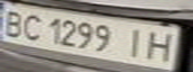1: (42, 15, 63, 46)
2: (57, 16, 78, 48)
9: (90, 21, 118, 55), (72, 19, 96, 52)
B: (0, 7, 27, 37)
C: (18, 11, 45, 42)
H: (139, 28, 181, 63)
I: (118, 25, 151, 60)
